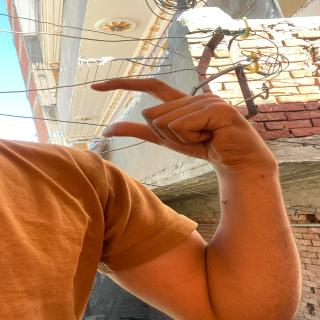DELL: (80, 73, 292, 171)
